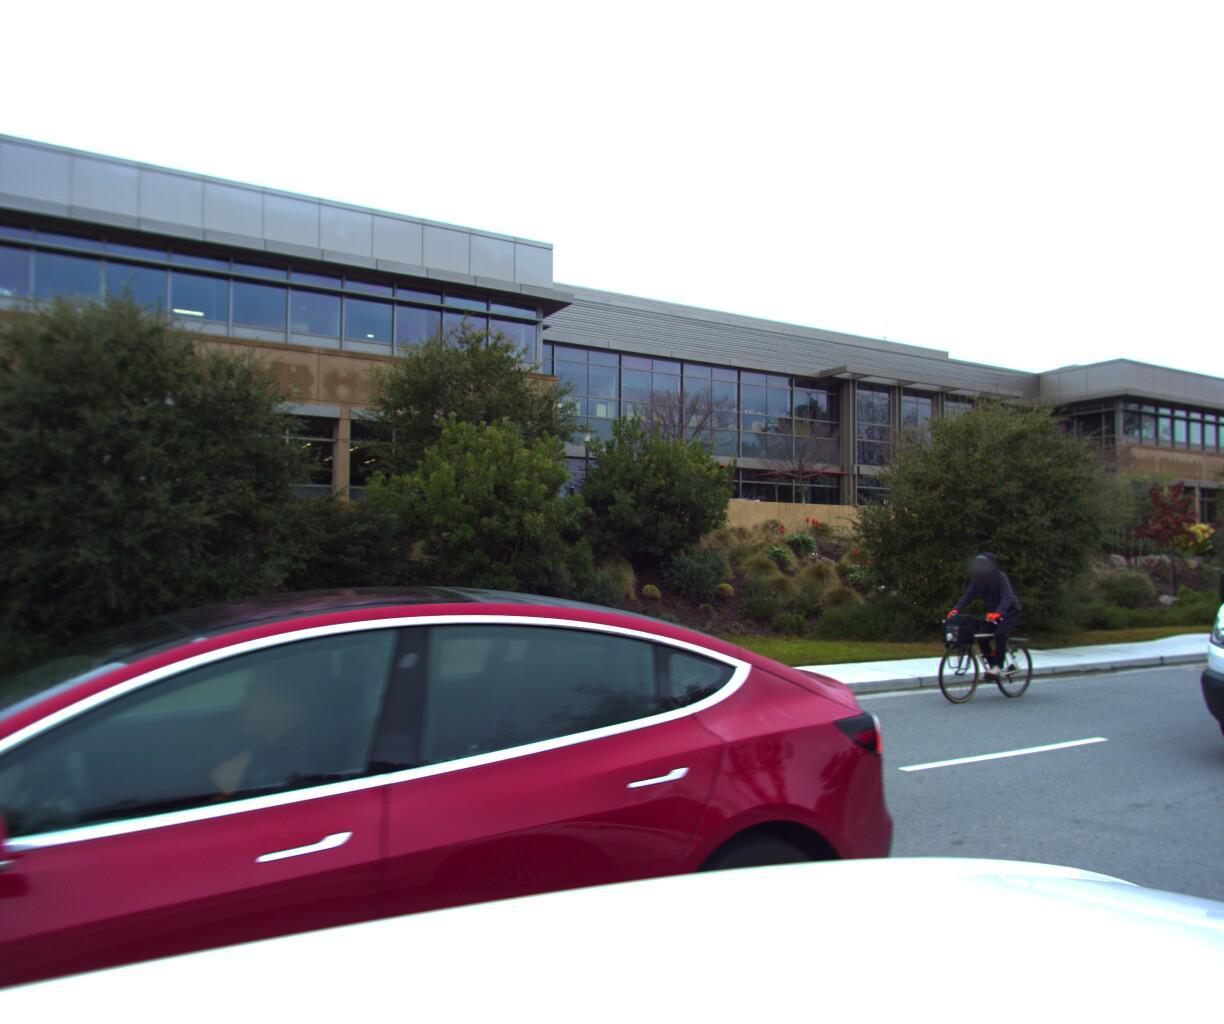bicycle: (899, 543, 1074, 710)
car: (0, 566, 976, 1024), (1146, 418, 1224, 828)
